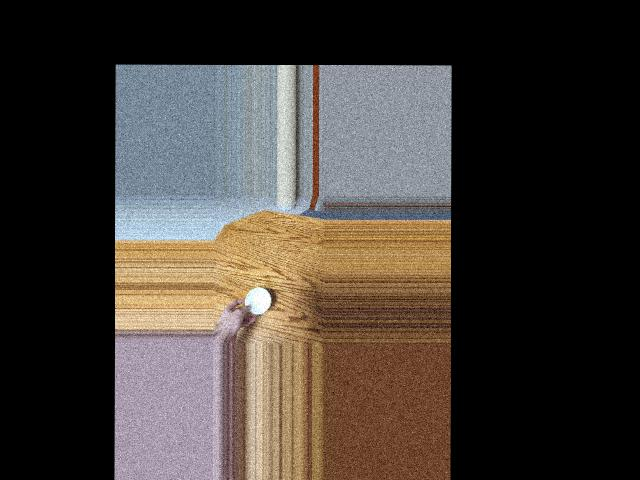cotage: (243, 287, 271, 316)
